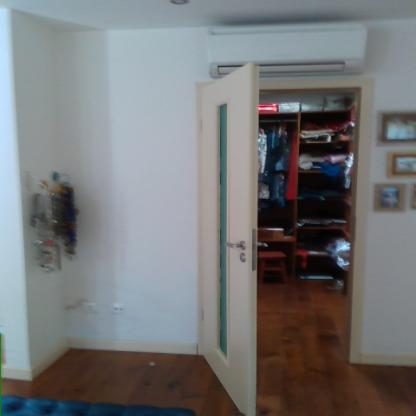semi: (195, 57, 378, 394)
